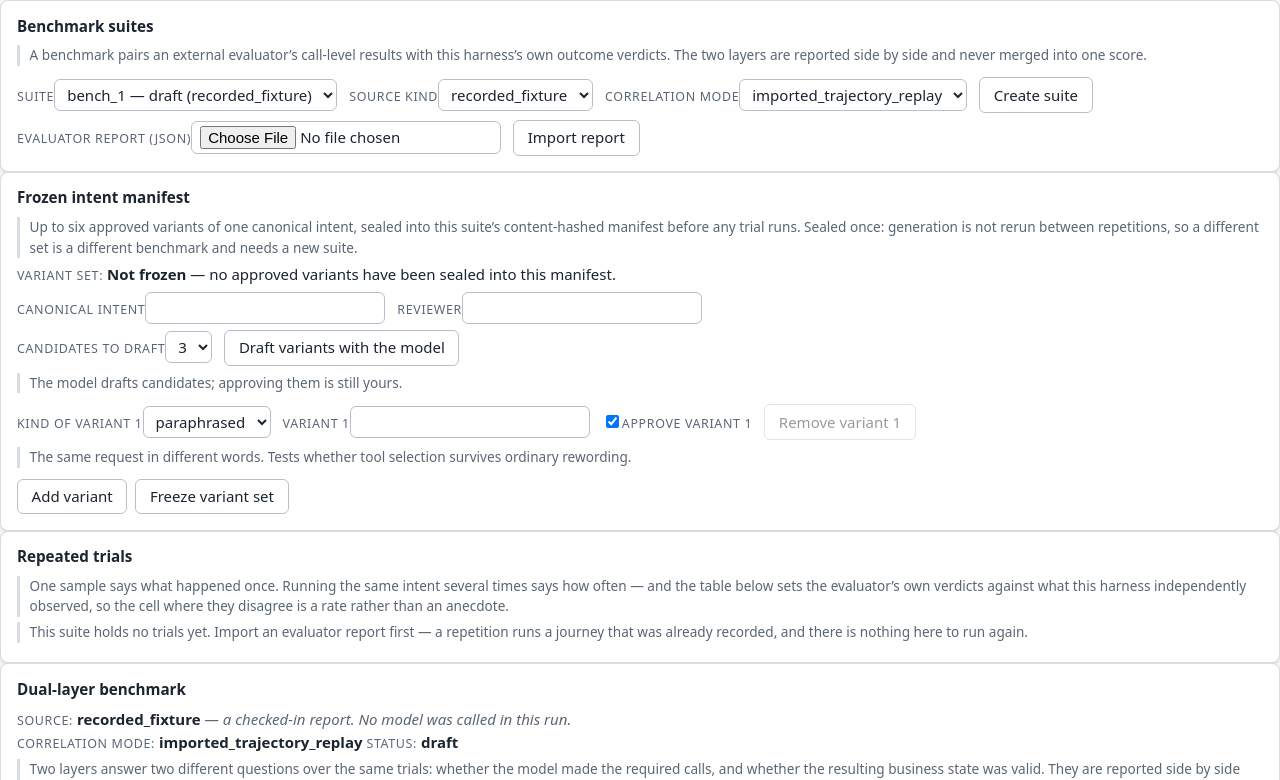
Test: BenchmarkSection — drafting variants with the model › shows the server's own refusal rather than a generic apology
The width and height of the screenshot is (1280, 780).
Type "Add one ceramic mug to the cart and apply the SAVE20 discount." into the field labelled "Canonical intent" at [265, 308], box x1=145 y1=292 x2=385 y2=324
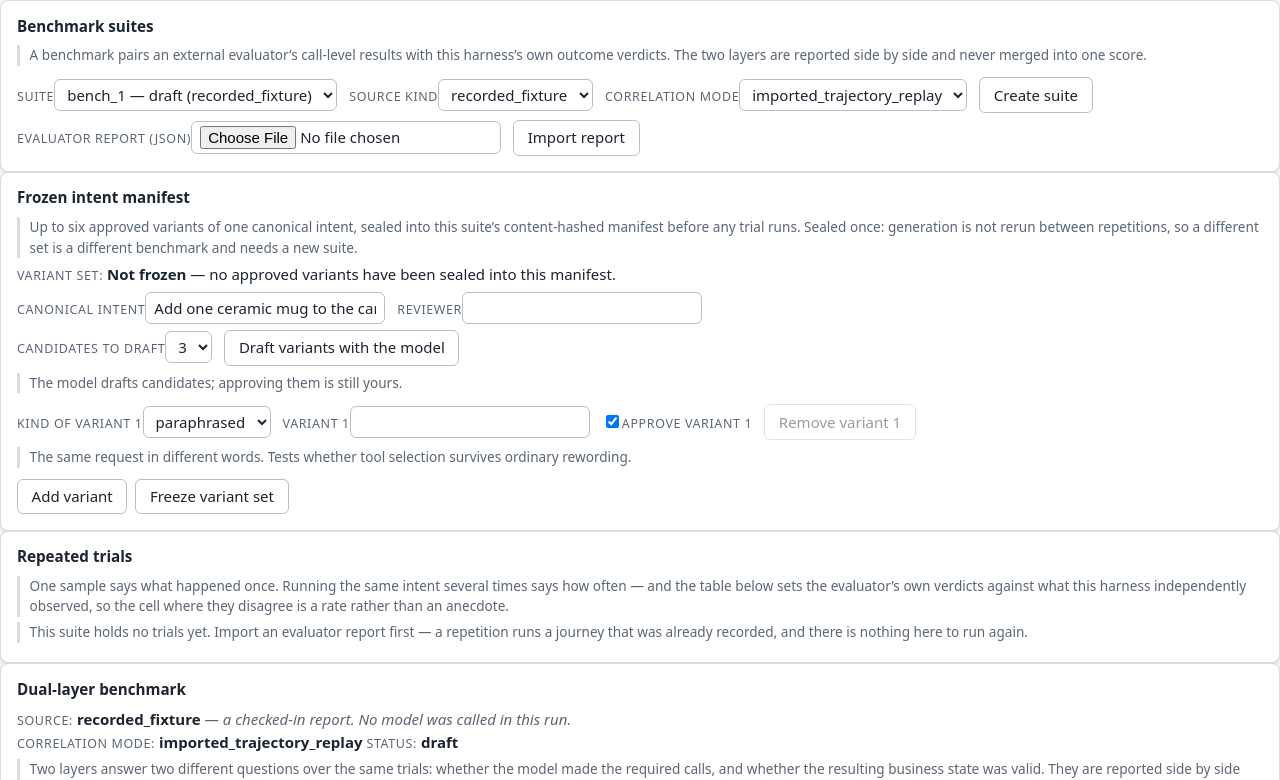
Click the button "Draft variants with the model" at [342, 348], box x1=224 y1=330 x2=460 y2=366
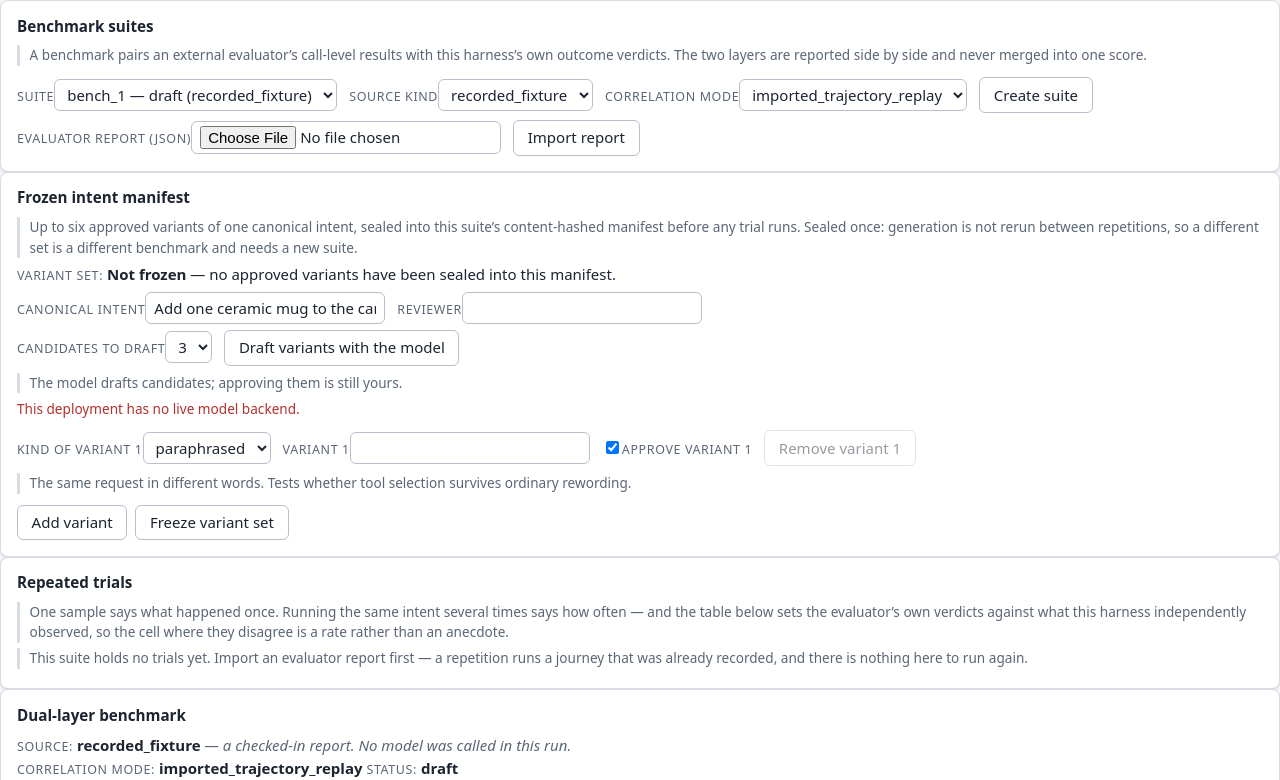
Expected: the field labelled "Variant 1" is empty, x1=350 y1=432 x2=590 y2=464
Now the text "This deployment has no live model backend." is shown, box x1=17 y1=399 x2=300 y2=418
